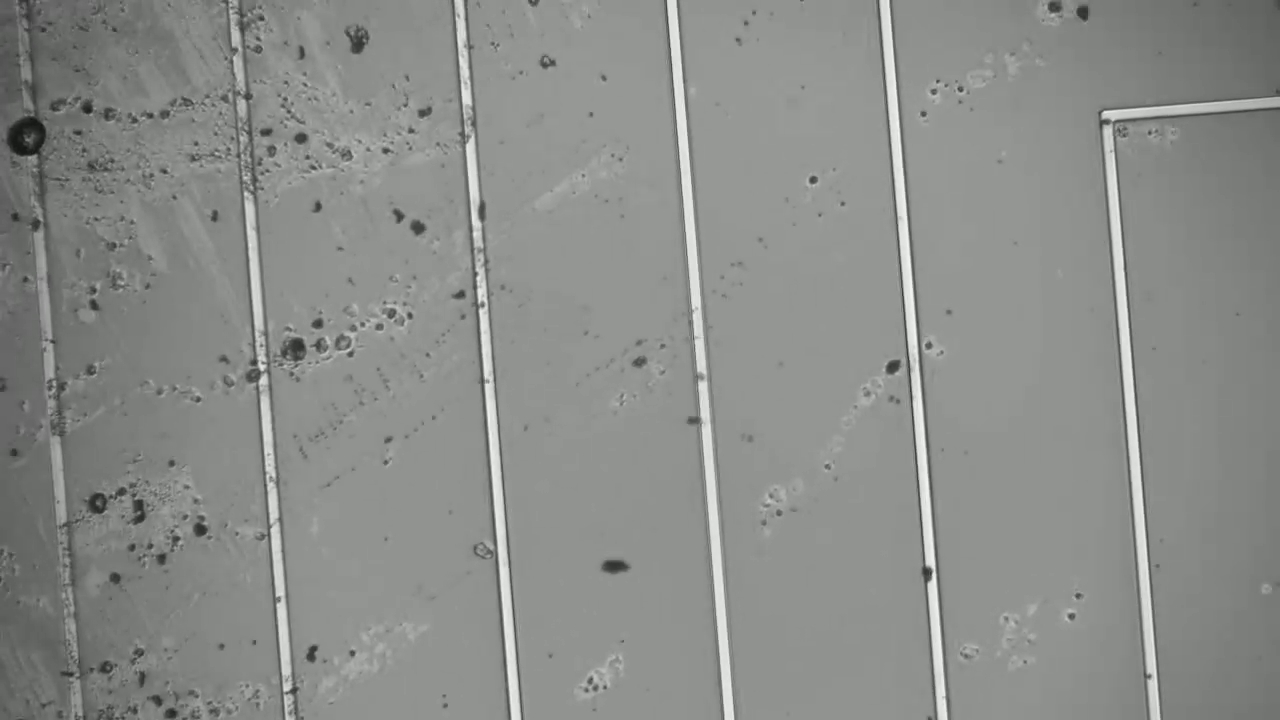stains_enbedded: (921, 560, 943, 584)
